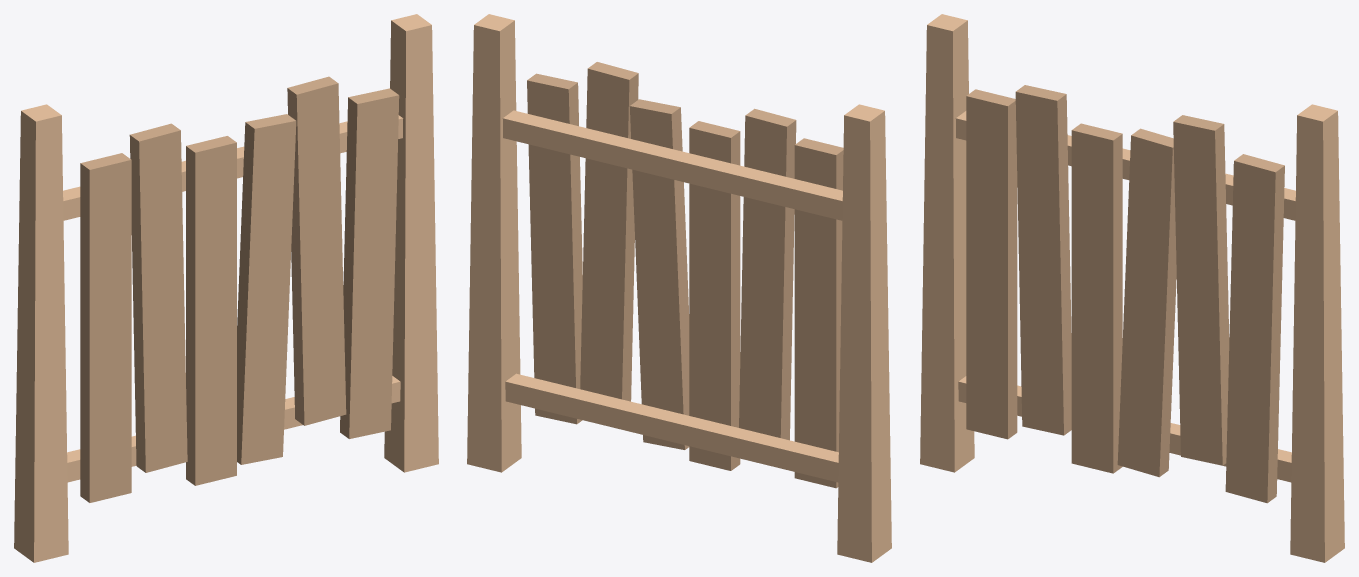
The model's file is fenceFortified.glb.
3 renders of one model, left to right at view 1: azimuth 30°, elevation 25°; view 2: azimuth 150°, elevation 25°; view 3: azimuth 330°, elevation 25°, orthographic.
Visible parts, largest first — view 1: fenceFortified; view 2: fenceFortified; view 3: fenceFortified.
Part boxes in pixels (<box>): fenceFortified: <box>14,14,438,562</box>; fenceFortified: <box>467,14,891,562</box>; fenceFortified: <box>920,14,1344,562</box>.
Size of the model in its own units: 2 by 2.07 by 0.2121.
